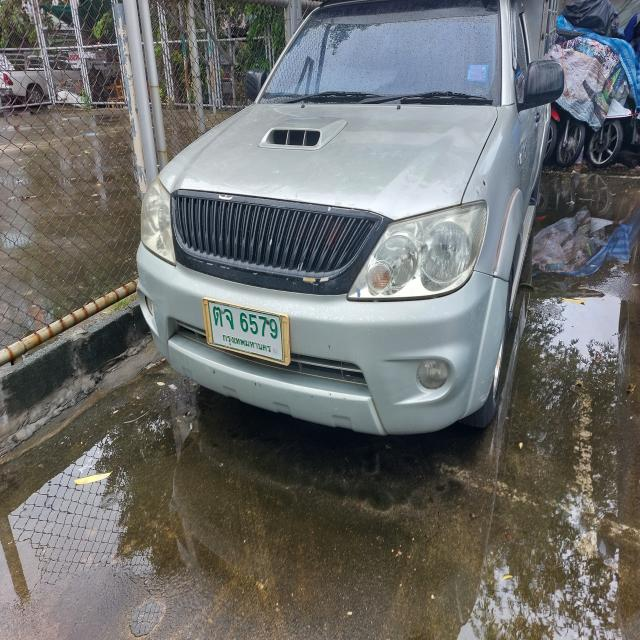license_plate: (202, 293, 293, 372)
